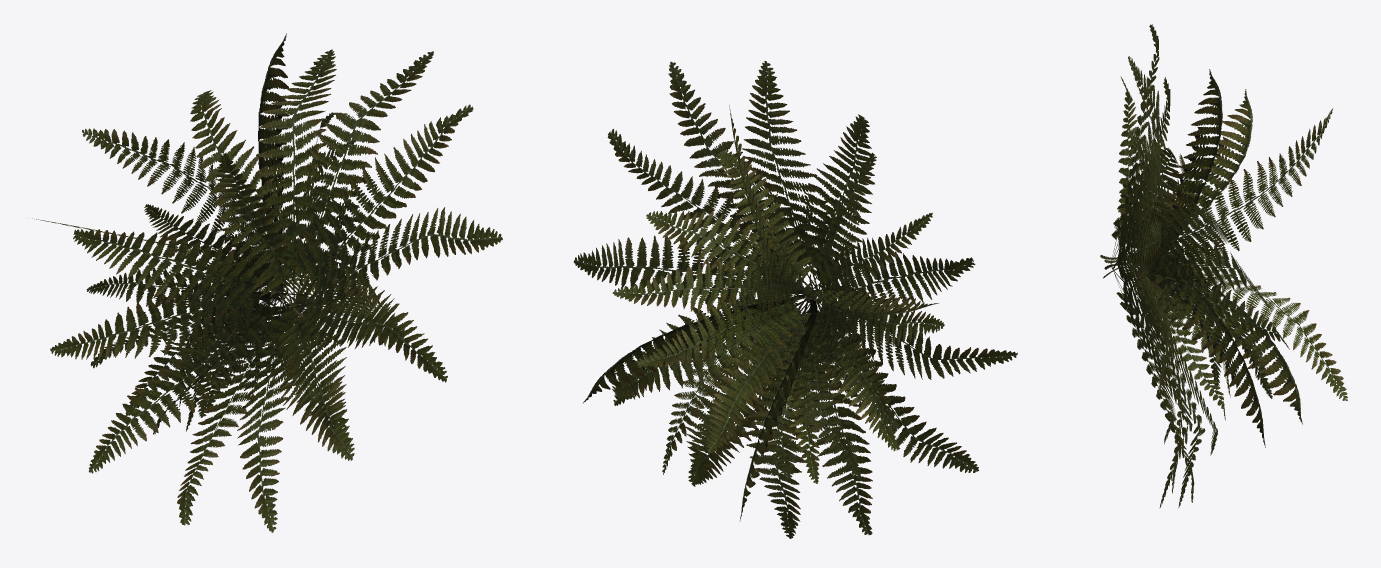
The model's file is MEP_Fern_02.fbx.
3 views of the same model, side by side, from view 1: azimuth 30°, elevation 25°; view 2: azimuth 150°, elevation 25°; view 3: azimuth 270°, elevation 25° (orthographic). The views are drawn at different scales.
Parts seen in each view (by area): view 1: MEP_Fern_02; view 2: MEP_Fern_02; view 3: MEP_Fern_02.
Part boxes in pixels (x1=…): MEP_Fern_02: x1=32, y1=33, x2=502, y2=532; MEP_Fern_02: x1=573, y1=61, x2=1017, y2=538; MEP_Fern_02: x1=1100, y1=24, x2=1347, y2=507.
Size of the model in its own units: 3.19 by 3.12 by 1.5.
